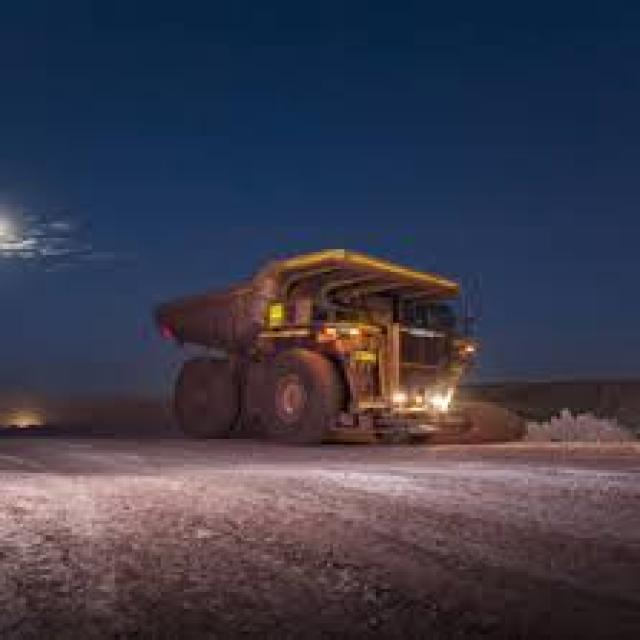dump_truck: (150, 244, 480, 478)
